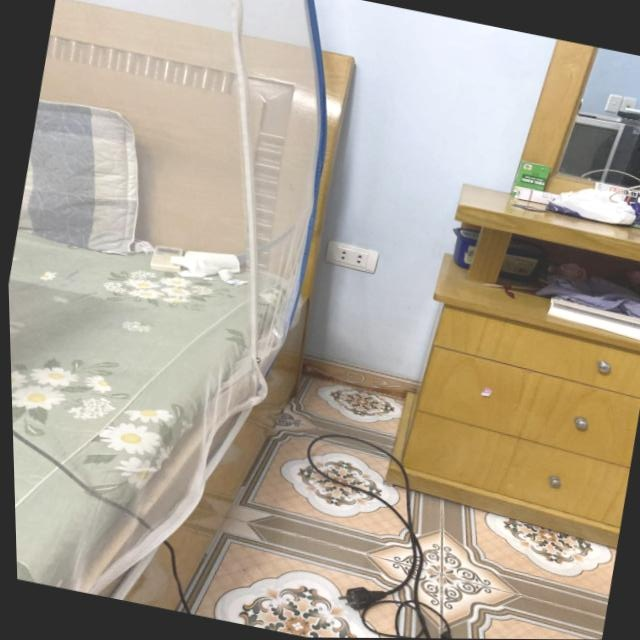outlet: (324, 240, 381, 274)
